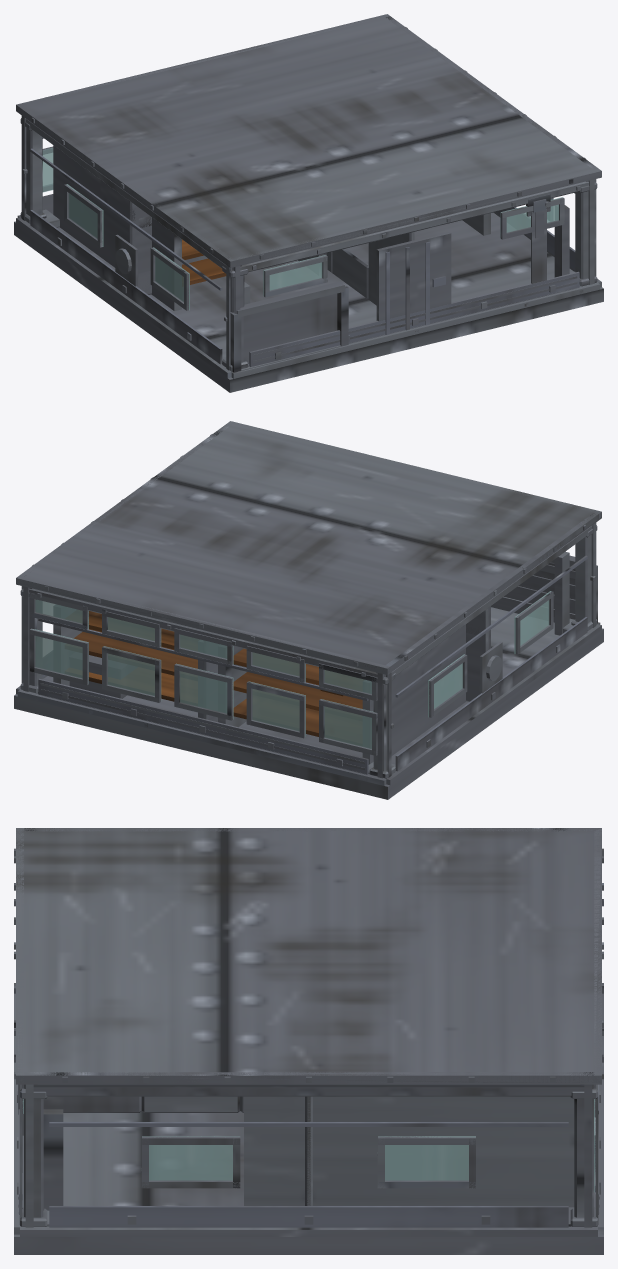
The picture shows the model from 3 angles, top to bottom: view 1: azimuth 30°, elevation 25°; view 2: azimuth 150°, elevation 25°; view 3: azimuth 270°, elevation 25°; orthographic projection. The views are drawn at different scales.
Visible parts, largest first — view 1: SM_HDBF_BoxFarm_Top_LOD0; view 2: SM_HDBF_BoxFarm_Top_LOD0; view 3: SM_HDBF_BoxFarm_Top_LOD0.
Boxes of the visible parts, bbox=[...] form: SM_HDBF_BoxFarm_Top_LOD0: bbox=[14, 14, 603, 392]; SM_HDBF_BoxFarm_Top_LOD0: bbox=[14, 421, 603, 799]; SM_HDBF_BoxFarm_Top_LOD0: bbox=[14, 828, 603, 1254].
Size of the model in its own units: 3 by 1 by 3.
Materials: 4 (4 with a texture image).
